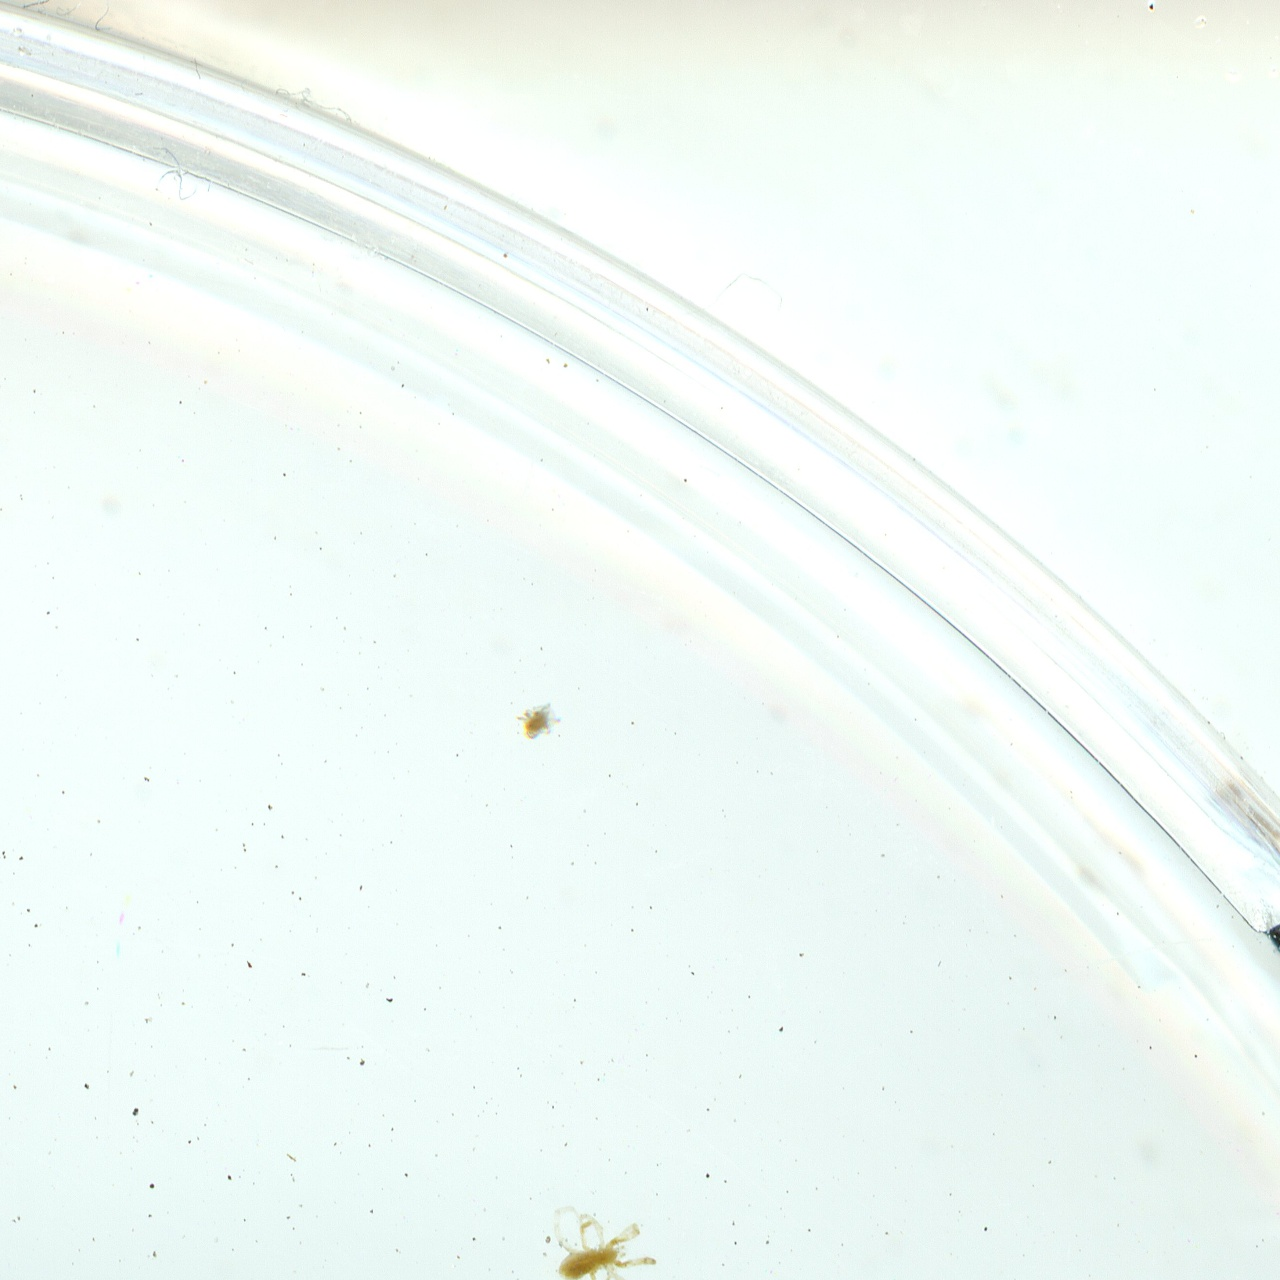arthropod: (536, 1201, 662, 1280), (1244, 886, 1280, 1036), (513, 696, 565, 745)
